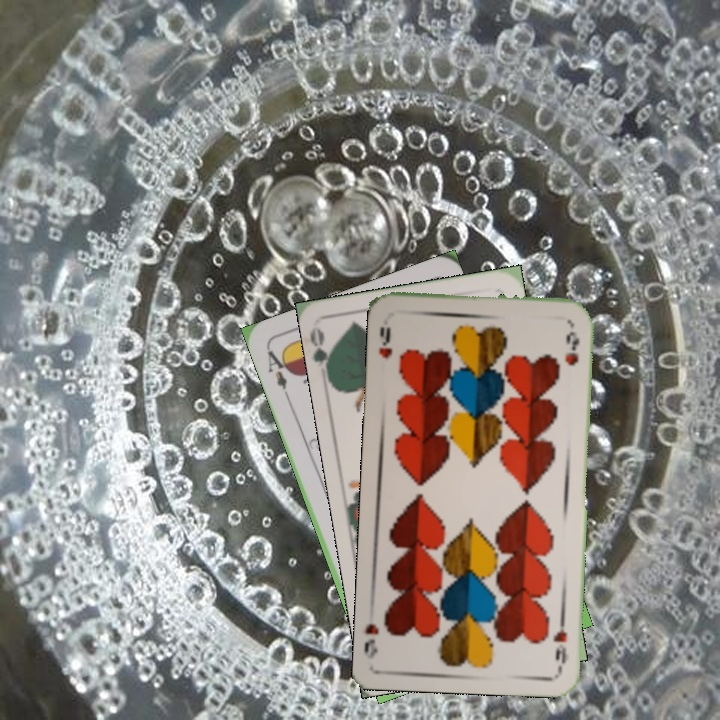EA: (263, 344, 294, 401)
GO: (307, 324, 337, 383)
H9: (549, 612, 570, 671), (375, 323, 395, 360)
